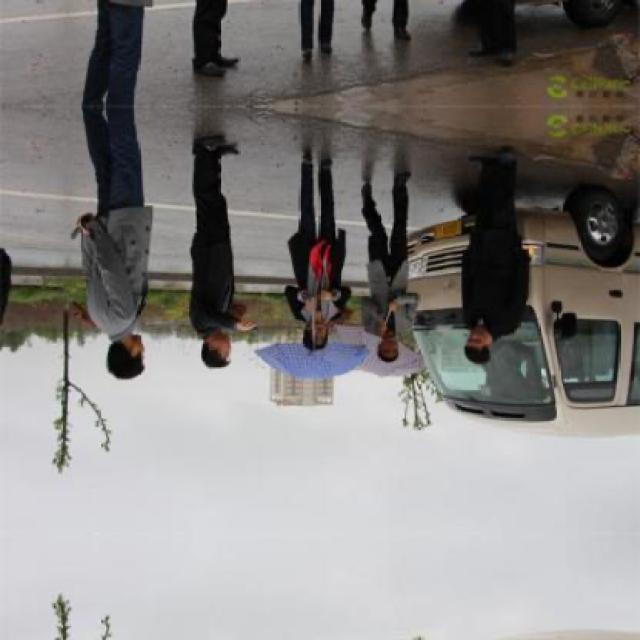sin casco: (70, 302, 181, 398), (185, 311, 279, 379), (336, 325, 414, 387), (458, 331, 516, 379), (304, 316, 348, 356)
